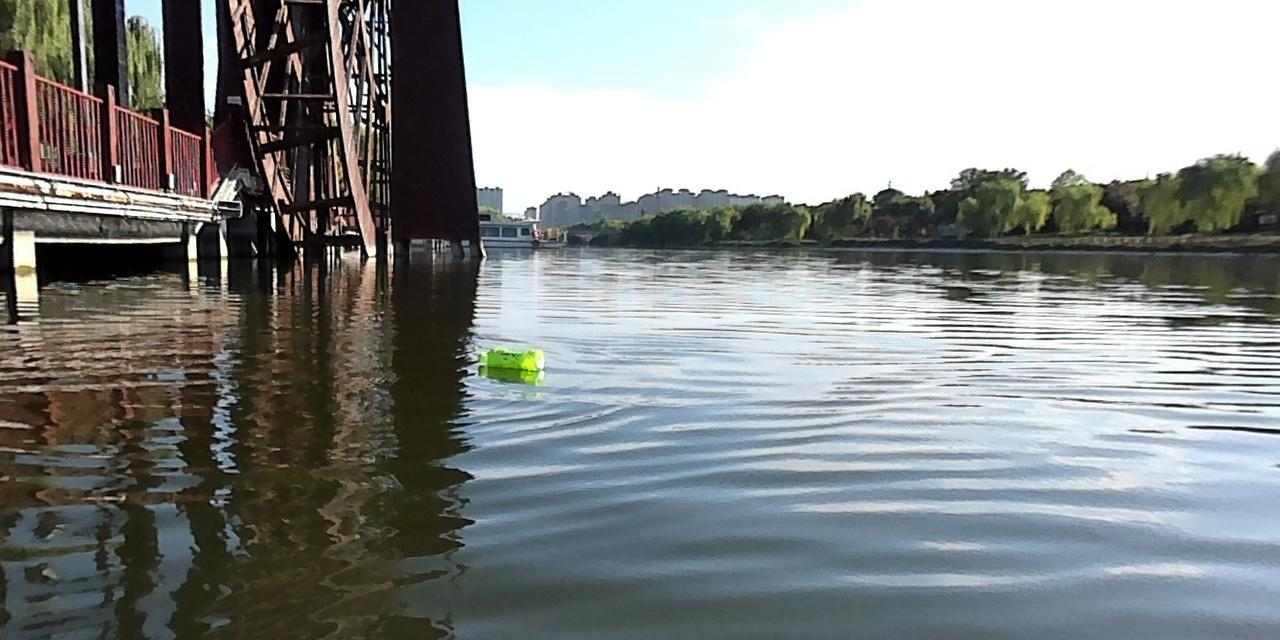bottle: (476, 344, 544, 372)
